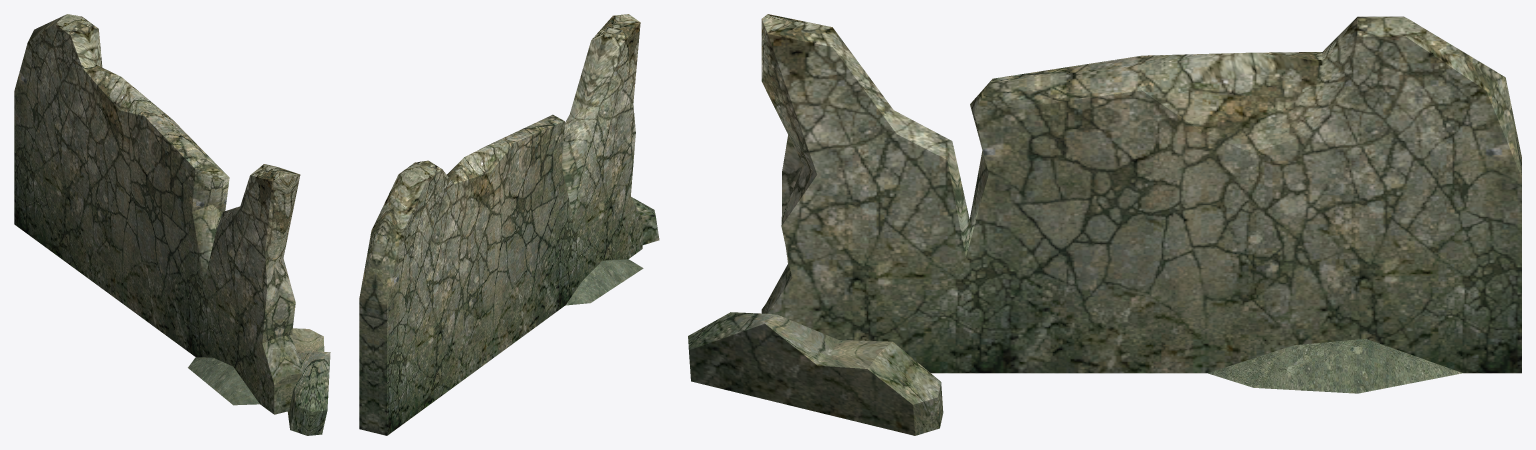
File: thm_nboo_gungan_wall_ruined_lg_s02_l1.fbx
The picture shows the model from 3 angles, left to right: view 1: azimuth 30°, elevation 25°; view 2: azimuth 150°, elevation 25°; view 3: azimuth 270°, elevation 25°; orthographic projection. The views are drawn at different scales.
Parts seen in each view (by area): view 1: mesh_node; view 2: mesh_node; view 3: mesh_node.
Boxes of the visible parts, bbox=[...] form: mesh_node: bbox=[14, 14, 330, 435]; mesh_node: bbox=[359, 14, 659, 435]; mesh_node: bbox=[688, 14, 1521, 435].
Bounding box in the file's own units: 2.08 × 4.2 × 8.78.
